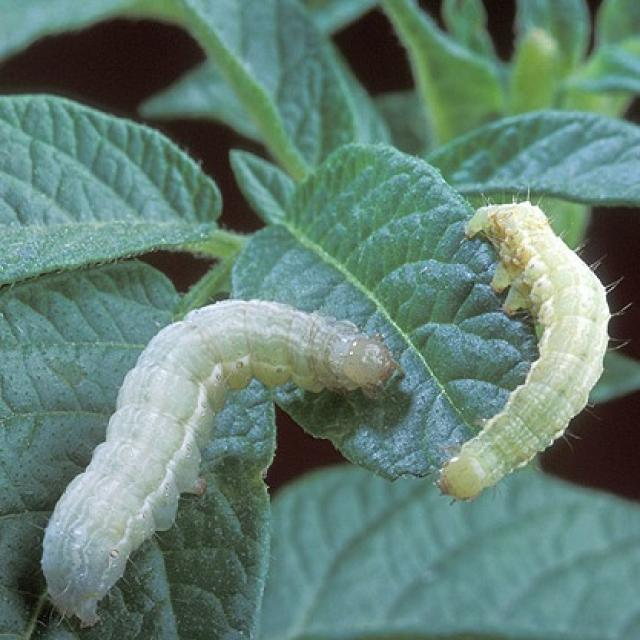Cabbage-worm: (40, 289, 393, 620), (448, 191, 618, 521)
